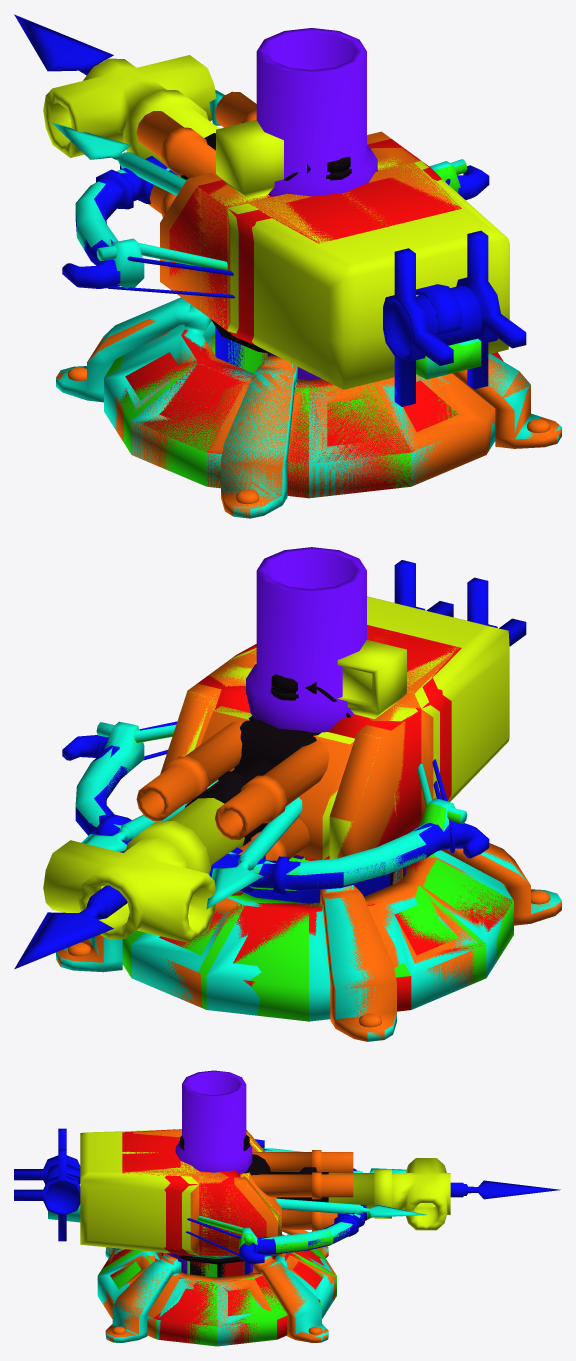
File: turret.fbx
The picture shows the model from 3 angles, top to bottom: view 1: azimuth 30°, elevation 25°; view 2: azimuth 150°, elevation 25°; view 3: azimuth 270°, elevation 25°; orthographic projection. The views are drawn at different scales.
Parts seen in each view (by area): view 1: 1turret_b3, 1turret_a5, 2turret_crossbow_a8, 1turret4, 3turret_mine2, 1turret1, 1turret_b1, 2turret_crossbow_b5, 2turret_crossbow1, 1turret_a3, 1turret_a1, 2turret_crossbow_b1 (+9 smaller); view 2: 2turret_crossbow_a8, 1turret_b3, 3turret_mine2, 1turret_b1, 1turret_a5, 2turret_crossbow1, 1turret_a3, 1turret_a1, 1turret1, 2turret_crossbow_b1, 2turret_crossbow_a1, 1turret4 (+14 smaller); view 3: 1turret_b3, 1turret_a5, 2turret_crossbow_a8, 1turret1, 3turret_mine2, 1turret_a1, 1turret_b1, 1turret4, 2turret_crossbow1, 1turret_a3, 2turret_crossbow_b5, 2turret_crossbow_b1 (+11 smaller).
Part boxes in pixels (x1=…): 1turret_b3: x1=200, y1=120, x2=509, y2=389; 1turret_a5: x1=56, y1=318, x2=561, y2=518; 2turret_crossbow_a8: x1=56, y1=297, x2=561, y2=518; 1turret4: x1=120, y1=329, x2=502, y2=498; 3turret_mine2: x1=256, y1=28, x2=377, y2=196; 1turret1: x1=169, y1=138, x2=461, y2=344; 1turret_b1: x1=43, y1=55, x2=219, y2=176; 2turret_crossbow_b5: x1=383, y1=230, x2=526, y2=406; 2turret_crossbow1: x1=104, y1=330, x2=458, y2=497; 1turret_a3: x1=160, y1=131, x2=452, y2=330; 1turret_a1: x1=136, y1=91, x2=256, y2=217; 2turret_crossbow_b1: x1=62, y1=156, x2=489, y2=288; 2turret_crossbow_a8: x1=56, y1=850, x2=561, y2=1041; 1turret_b3: x1=162, y1=596, x2=509, y2=858; 3turret_mine2: x1=246, y1=547, x2=366, y2=732; 1turret_b1: x1=43, y1=798, x2=244, y2=943; 1turret_a5: x1=57, y1=843, x2=561, y2=1041; 2turret_crossbow1: x1=122, y1=853, x2=513, y2=1021; 1turret_a3: x1=160, y1=636, x2=452, y2=858; 1turret_a1: x1=136, y1=721, x2=329, y2=895; 1turret1: x1=197, y1=625, x2=461, y2=860; 2turret_crossbow_b1: x1=62, y1=735, x2=489, y2=894; 2turret_crossbow_a1: x1=75, y1=721, x2=454, y2=885; 1turret4: x1=159, y1=858, x2=512, y2=1011; 1turret_b3: x1=80, y1=1129, x2=277, y2=1255; 1turret_a5: x1=102, y1=1230, x2=336, y2=1345; 2turret_crossbow_a8: x1=97, y1=1233, x2=334, y2=1346; 1turret1: x1=122, y1=1129, x2=266, y2=1255; 3turret_mine2: x1=175, y1=1070, x2=252, y2=1173; 1turret_a1: x1=251, y1=1150, x2=353, y2=1231; 1turret_b1: x1=328, y1=1158, x2=450, y2=1230; 1turret4: x1=102, y1=1235, x2=323, y2=1344; 2turret_crossbow1: x1=98, y1=1249, x2=336, y2=1346; 1turret_a3: x1=133, y1=1129, x2=277, y2=1255; 2turret_crossbow_b5: x1=14, y1=1128, x2=80, y2=1241; 2turret_crossbow_b1: x1=239, y1=1139, x2=366, y2=1264.
Bounding box in the file's own units: 21.24 × 17.8 × 41.73.
